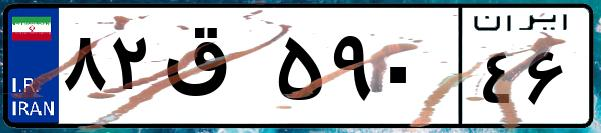0: (385, 28, 445, 110)
2: (110, 28, 158, 98)
4: (475, 38, 525, 113)
5: (270, 28, 330, 110)
6: (525, 38, 570, 115)
8: (57, 26, 110, 100)
9: (330, 28, 385, 110)
ق: (158, 20, 270, 120)
